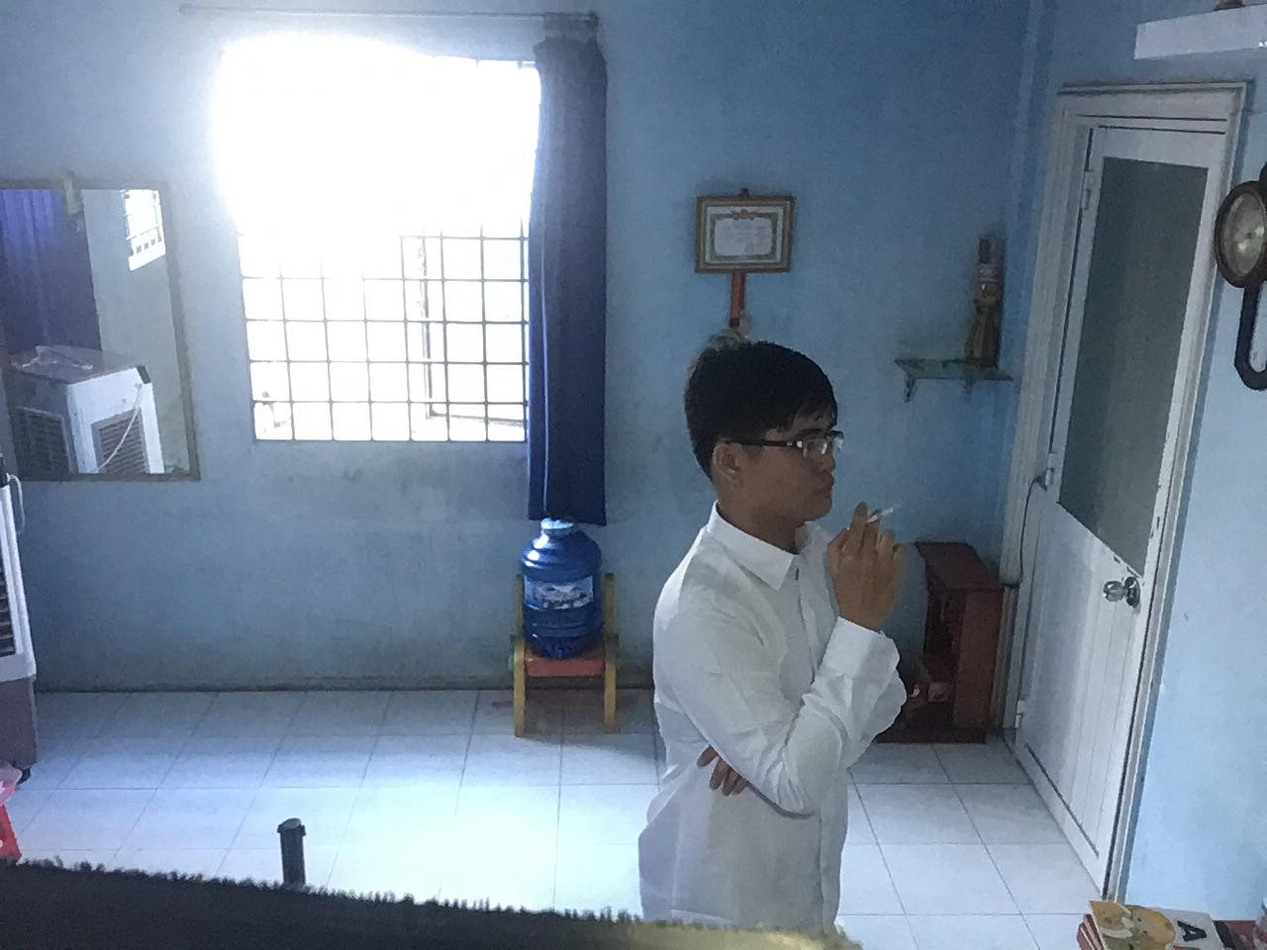cigarette: (849, 503, 909, 528)
person: (630, 319, 926, 943)
